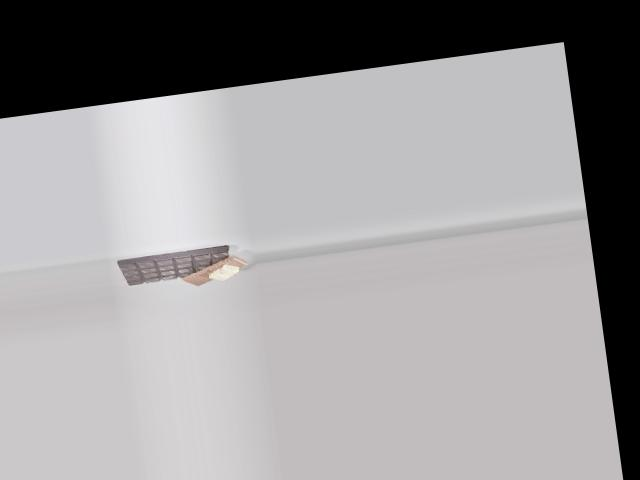chocolate: (116, 240, 239, 291)
